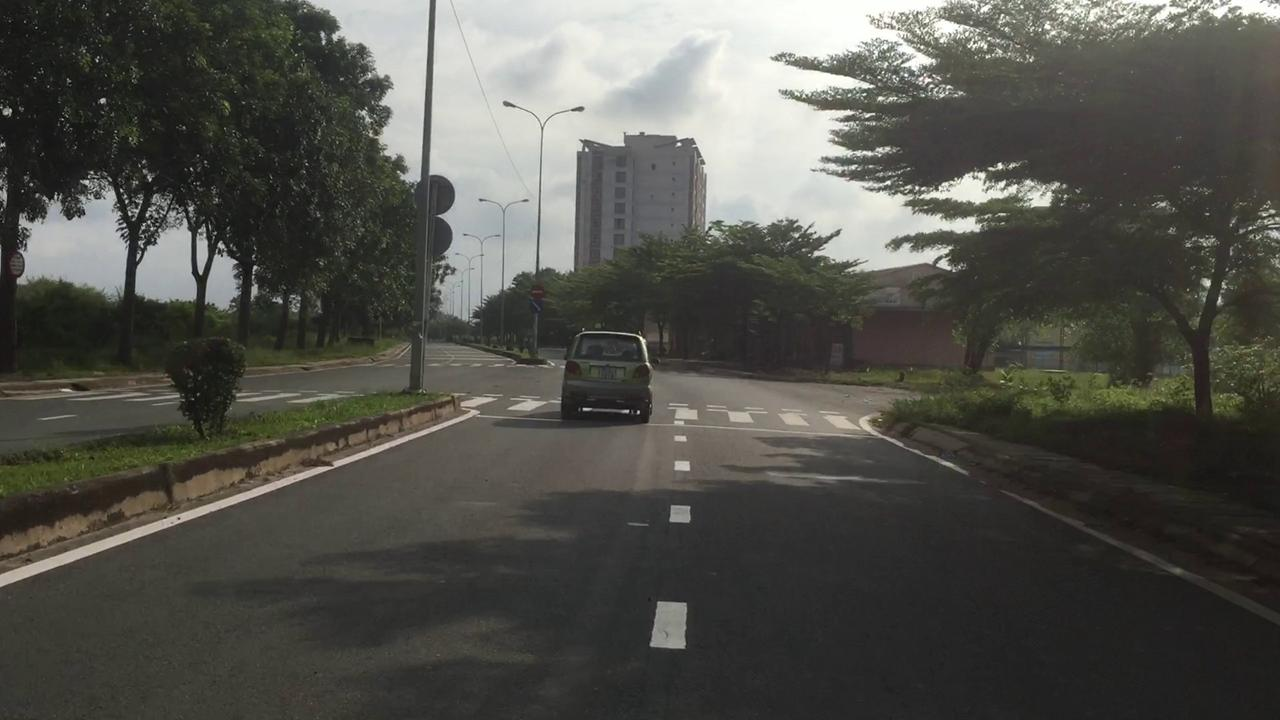DP.135: (528, 284, 546, 298)
P.130: (528, 298, 544, 312)
